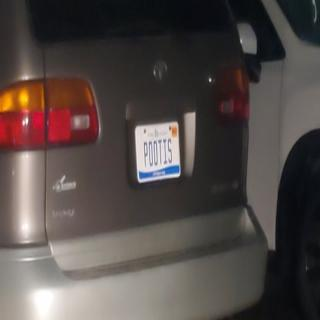license: (135, 122, 182, 184)
